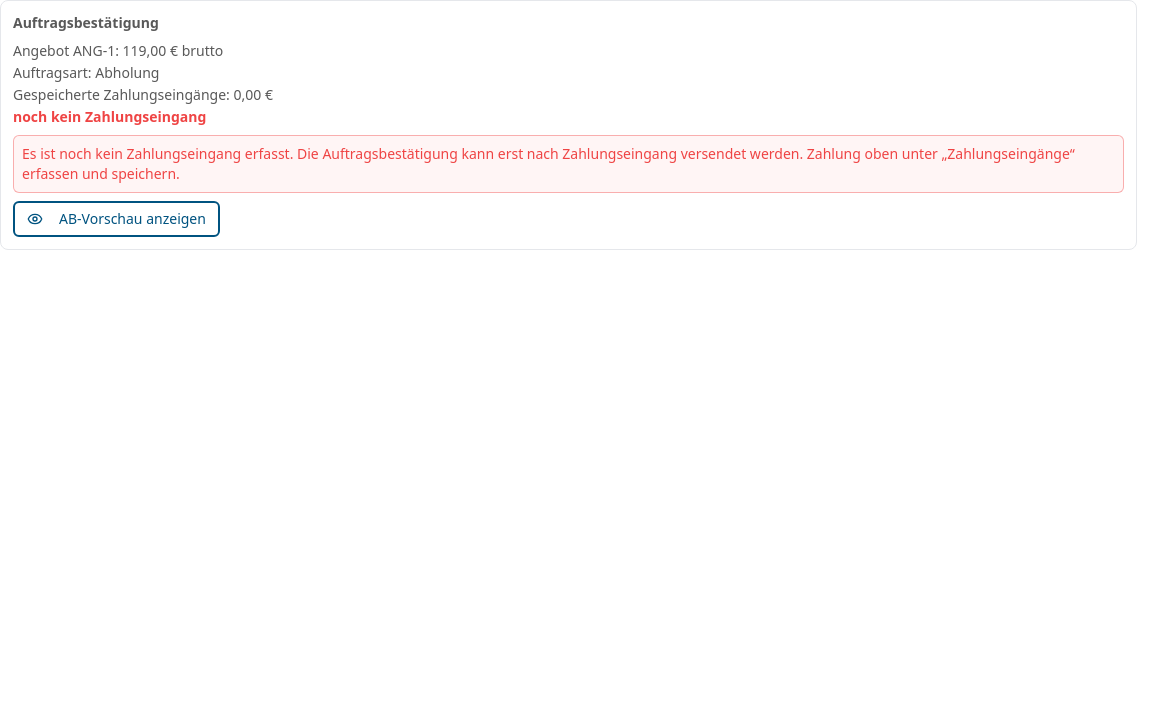
Test: AB preview and independent editing › allows preview before payment without allowing dispatch
Later steps or results of the test are not shown.
What coordinates should you click on to do the following:
click the button "AB-Vorschau anzeigen"
I would click on:
 (116, 219)
Its box is [13,201,220,237].
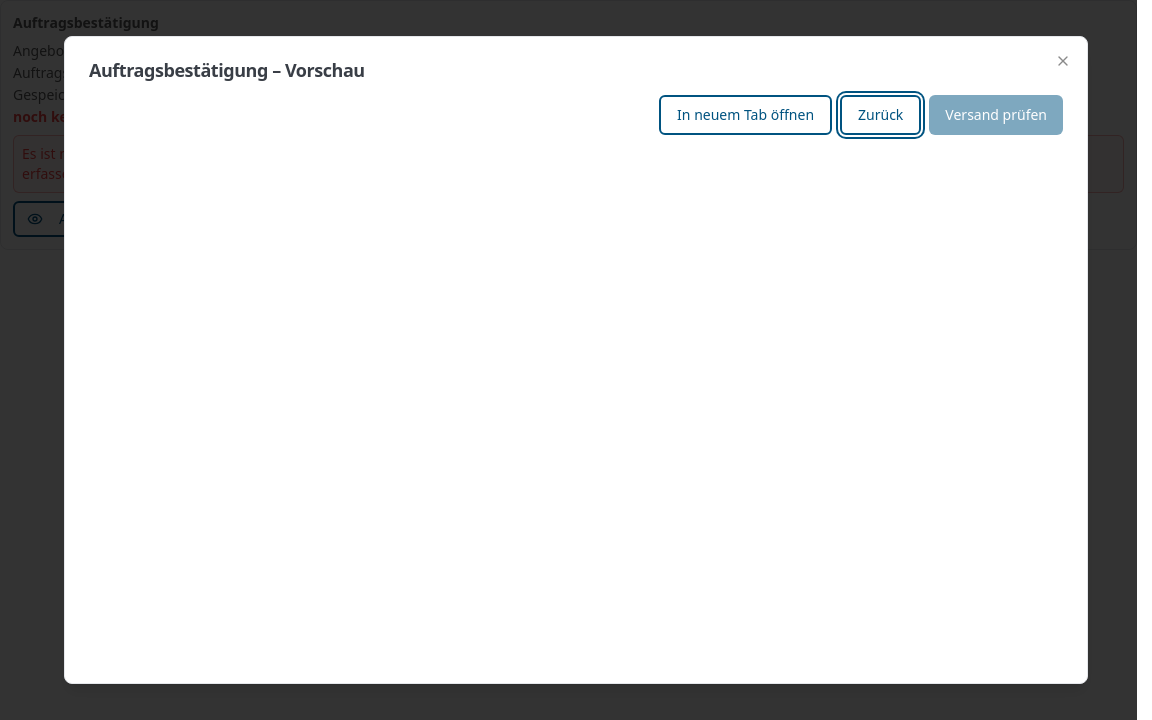
Check: the dialog "Auftragsbestätigung – Vorschau" is shown
